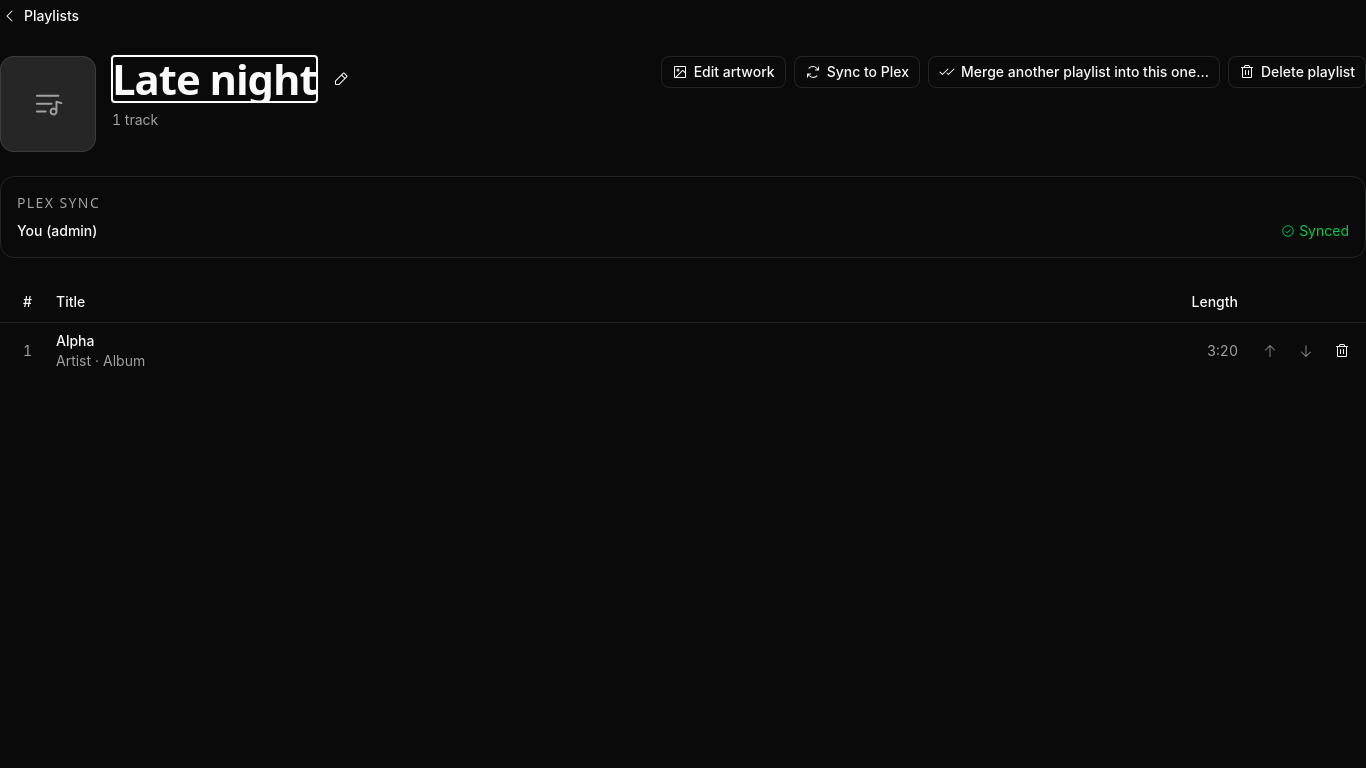
Test: PlaylistDetailPage › delete dialog notes Plex removal when the playlist has Plex copies
The width and height of the screenshot is (1366, 768).
Expected: the text "Alpha" is shown, [56,330,94,350]
What coordinates should you click on to do the following:
click the button "Delete playlist"
I would click on:
 (1297, 72)
Its box is [1228,56,1365,88].
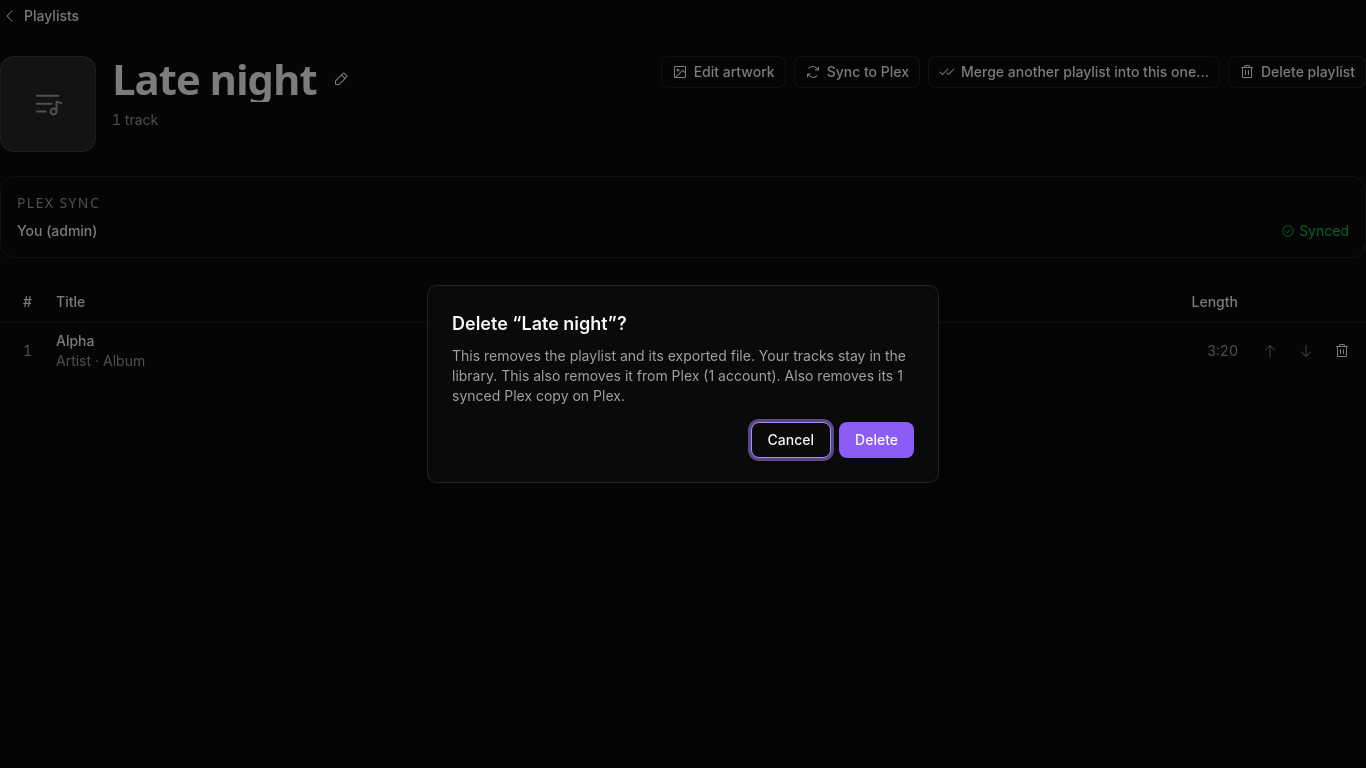
Result: the text "also removes it from Plex" is shown at [501,367,708,384]
